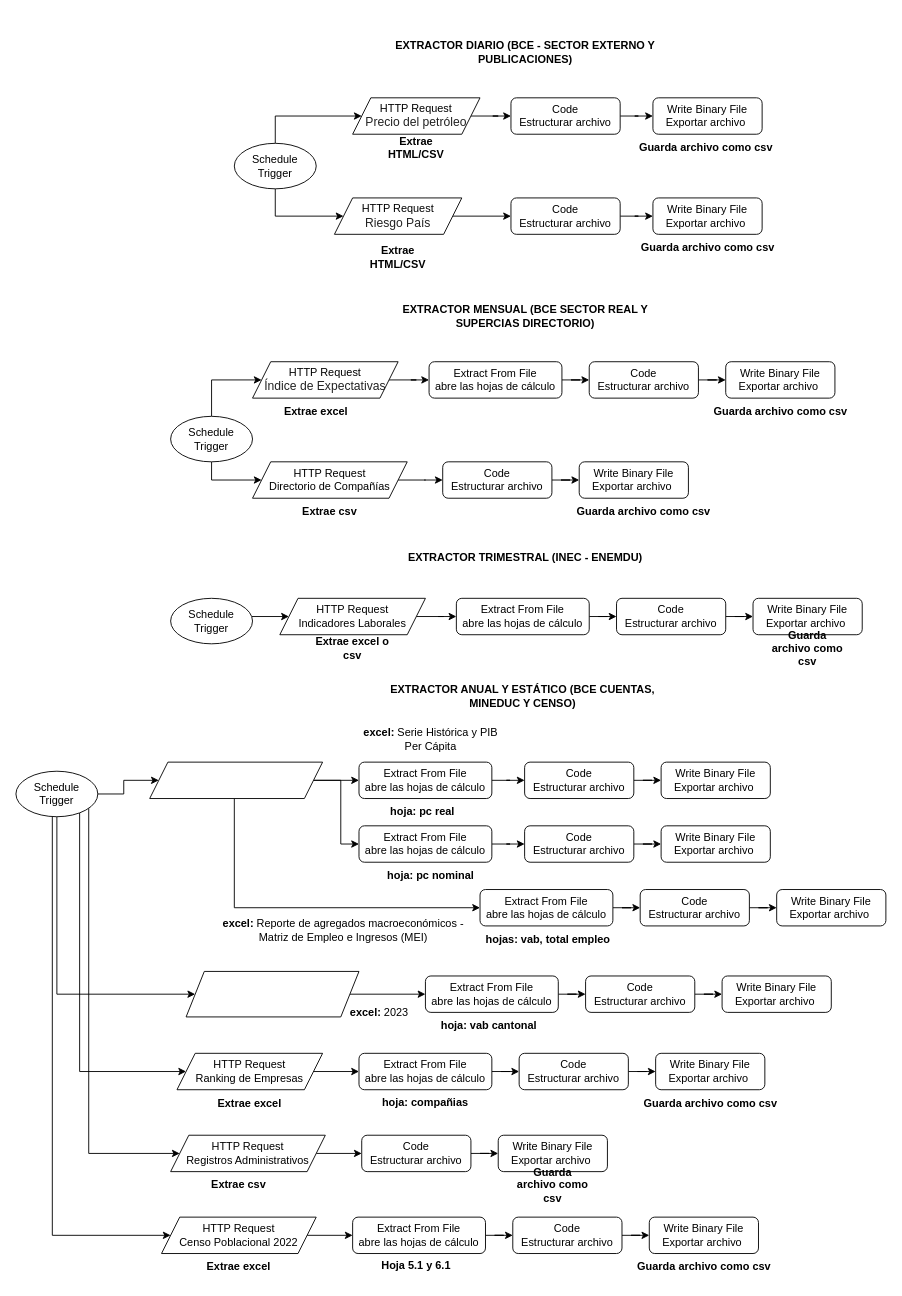
Image size: 902x1296. Some labels were removed from this diagram. The centre of each missing label's shape, as x and y in pixels:
"HTTP Request Cuentas Nacionales Anuales" belongs at point (236, 780).
"HTTP Request Cuentas Nacionales Anuales Regionales" belongs at point (272, 994).
